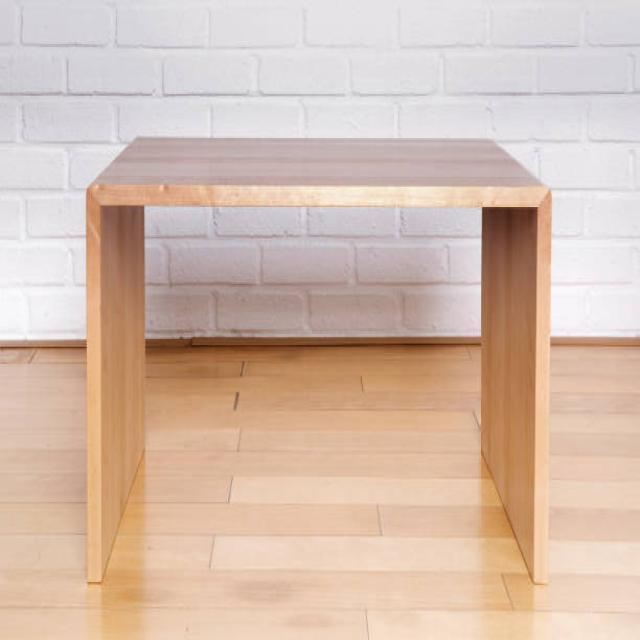table: (85, 133, 552, 585)
